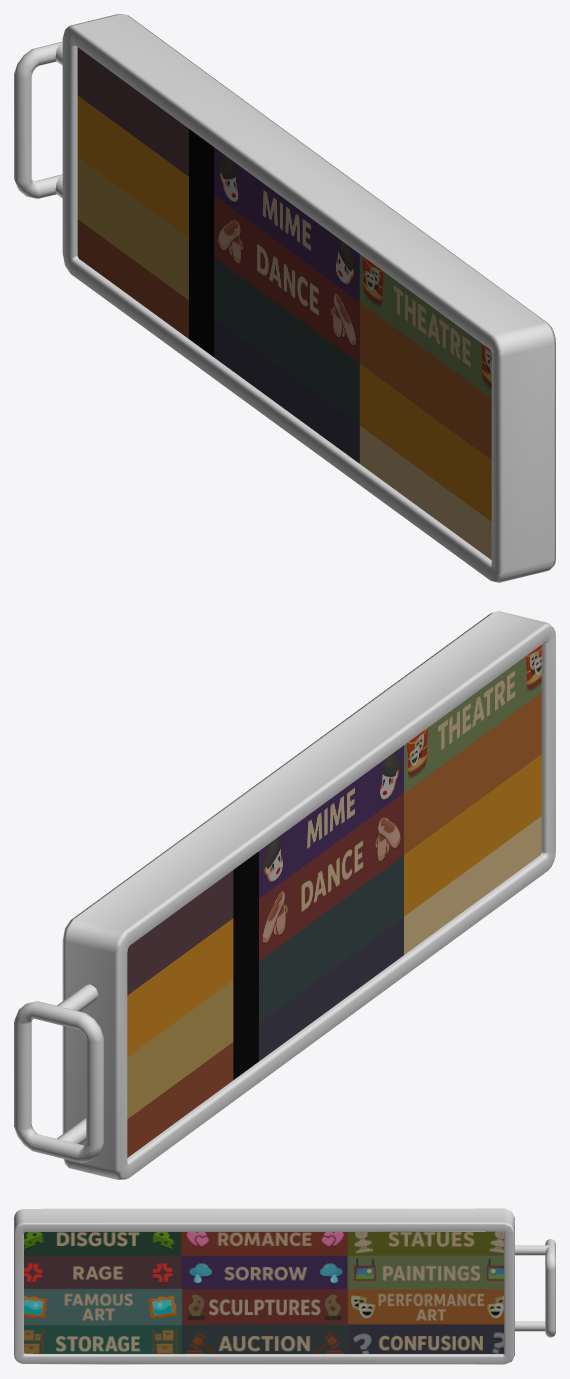
The model's file is LargeWallSign.fbx.
The picture shows the model from 3 angles, top to bottom: view 1: azimuth 30°, elevation 25°; view 2: azimuth 150°, elevation 25°; view 3: azimuth 270°, elevation 25°; orthographic projection. The views are drawn at different scales.
Visible parts, largest first — view 1: LargeWallSign_LOD0; view 2: LargeWallSign_LOD0; view 3: LargeWallSign_LOD0.
Part boxes in pixels (x1=…): LargeWallSign_LOD0: x1=14, y1=14, x2=555, y2=582; LargeWallSign_LOD0: x1=14, y1=611, x2=555, y2=1179; LargeWallSign_LOD0: x1=14, y1=1208, x2=555, y2=1364.
Size of what is drawn, in the model's own units: 0.1494 by 1.39 by 0.403.
